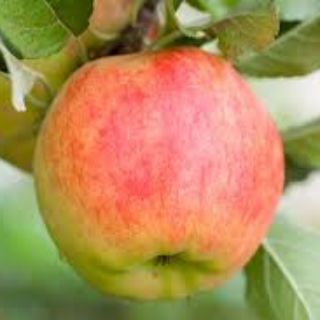tao: (29, 44, 288, 305)
